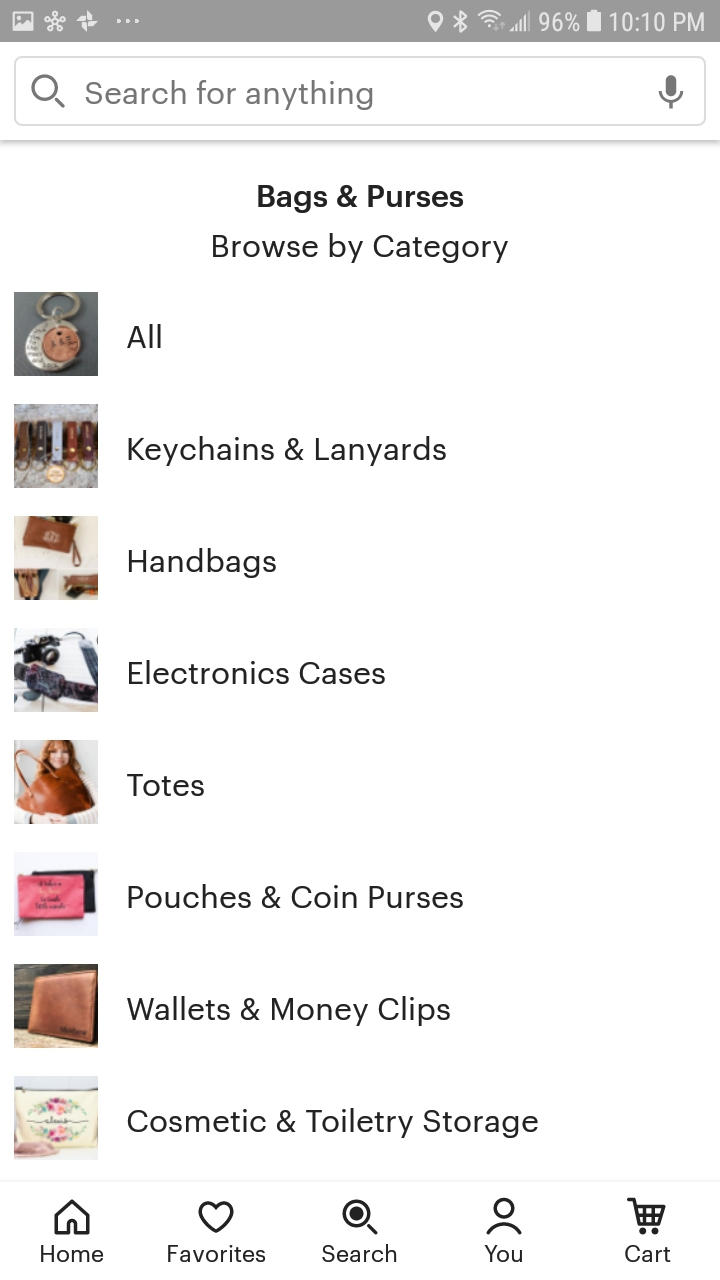EditText: (14, 57, 706, 127)
Icon: (627, 1197, 667, 1235), (55, 1199, 92, 1236), (342, 1198, 379, 1235), (486, 1197, 522, 1235), (198, 1200, 235, 1233), (31, 75, 66, 109), (658, 76, 684, 110)
Image: (14, 964, 99, 1049), (15, 404, 99, 489), (15, 516, 99, 601), (15, 628, 99, 713), (15, 293, 99, 377), (15, 741, 99, 825), (15, 853, 99, 937), (15, 1076, 99, 1160)
Text: (128, 1108, 539, 1139), (127, 996, 451, 1027), (128, 436, 447, 467), (213, 233, 509, 264), (86, 80, 374, 111), (128, 883, 464, 909), (129, 659, 386, 685), (258, 185, 464, 215), (129, 547, 277, 579), (127, 773, 205, 797), (168, 1244, 266, 1263), (322, 1243, 398, 1263), (41, 1244, 105, 1263), (127, 324, 162, 350), (624, 1244, 671, 1263), (485, 1244, 523, 1263)
UpperTaskBar: (1, 1, 720, 43)
